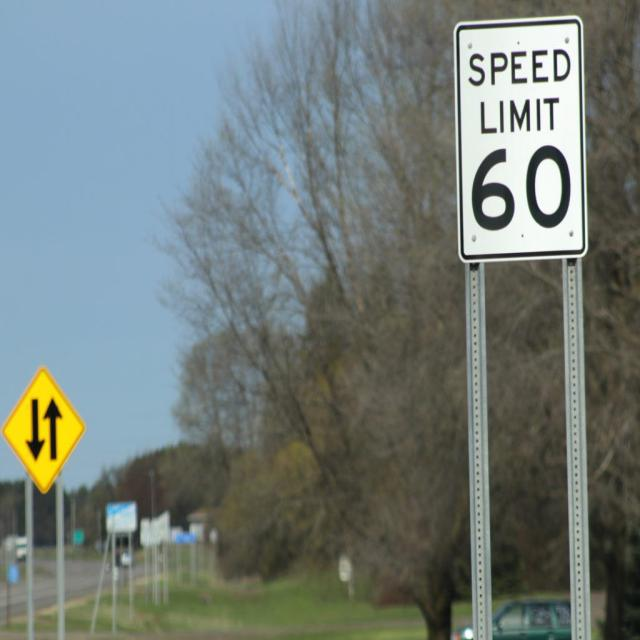speedLimit60: (464, 38, 574, 242)
